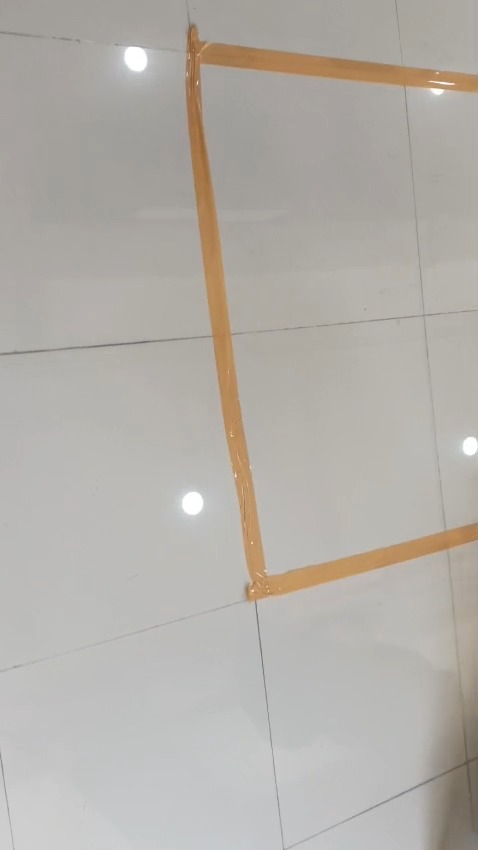floor marking: (186, 26, 477, 601)
